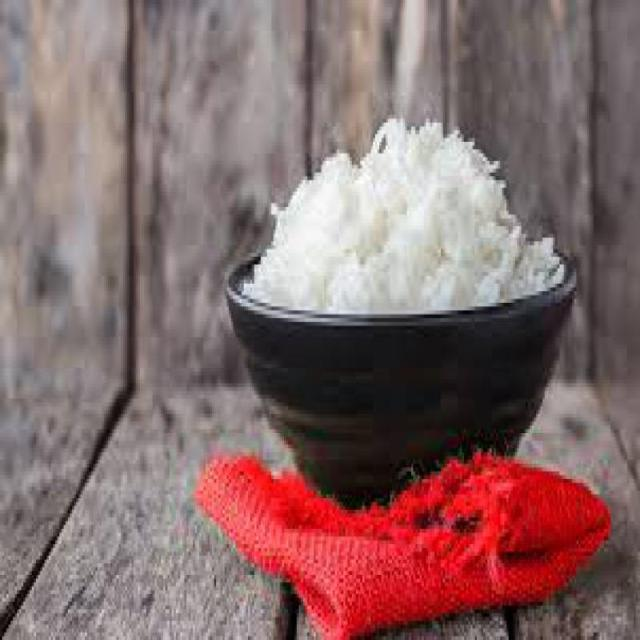nasi_putih: (245, 115, 560, 316)
